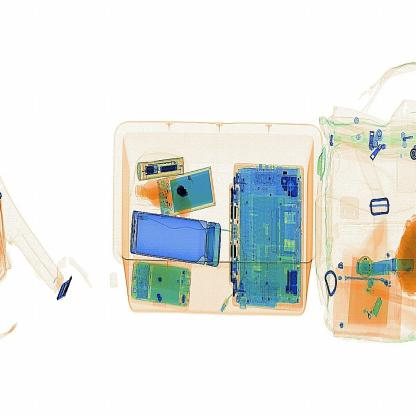knife: (175, 180, 195, 206)
